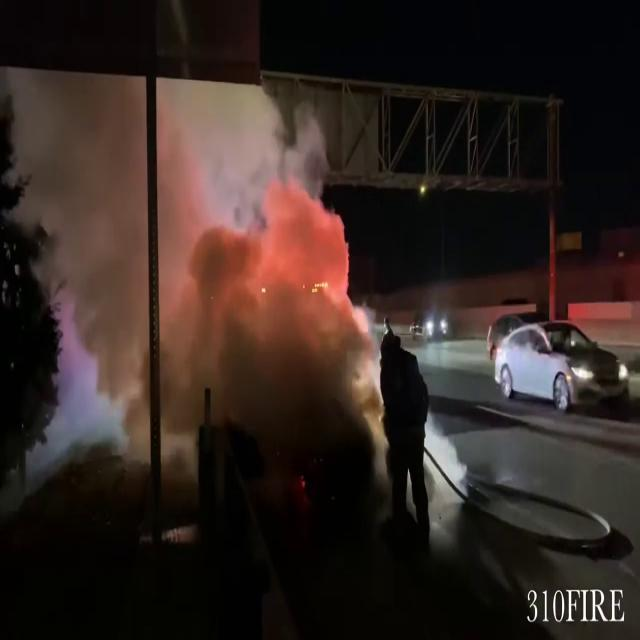Smoke: (1, 72, 393, 504)
